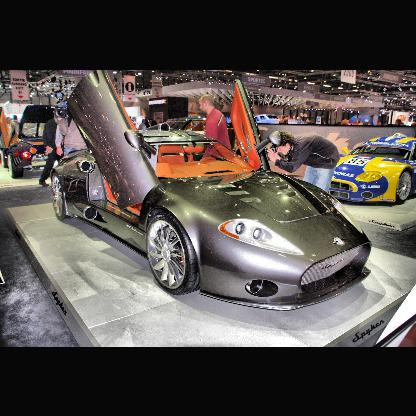Spyker C8 Coupe 2009: (52, 70, 373, 312)
